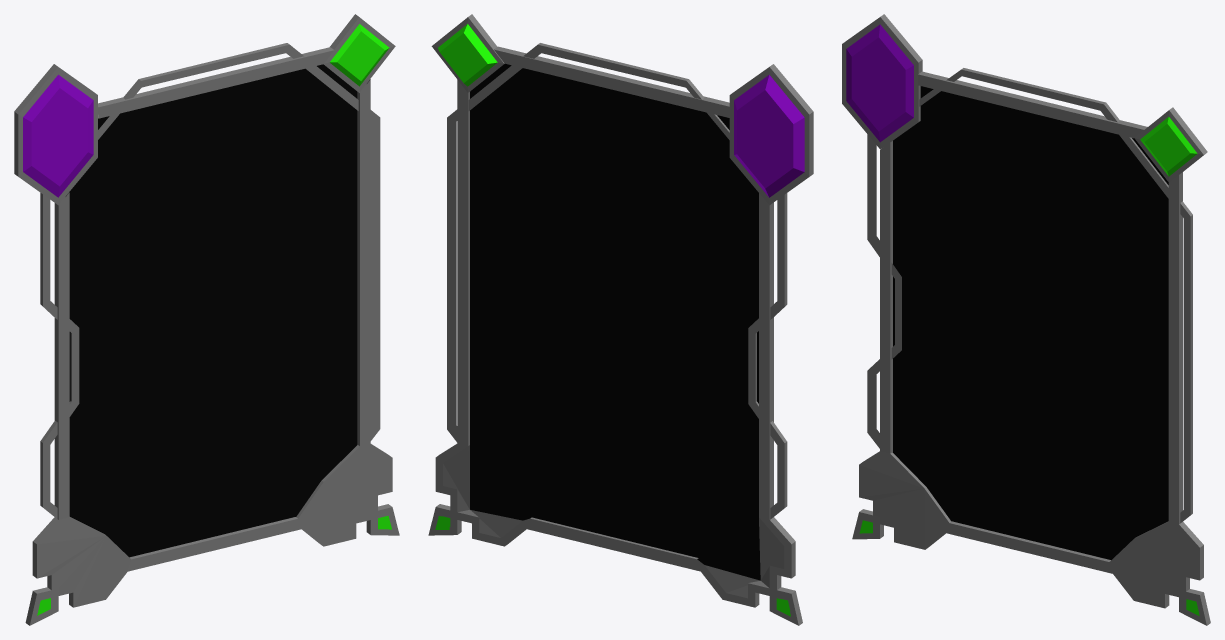
The model's file is tcg-card-frame-core.glb.
The picture shows the model from 3 angles, left to right: view 1: azimuth 30°, elevation 25°; view 2: azimuth 150°, elevation 25°; view 3: azimuth 330°, elevation 25°; orthographic projection. The views are drawn at different scales.
Parts seen in each view (by area): view 1: card-attribute-cost; view 2: card-attribute-cost; view 3: card-attribute-cost.
Part boxes in pixels (box(x1,y1,x2,y2)): card-attribute-cost: box(14, 14, 399, 625); card-attribute-cost: box(428, 14, 813, 625); card-attribute-cost: box(842, 14, 1210, 625).
Size of what is drawn, in the model's own units: 2.62 by 3.63 by 0.1209.
1 material, 1 textured.
